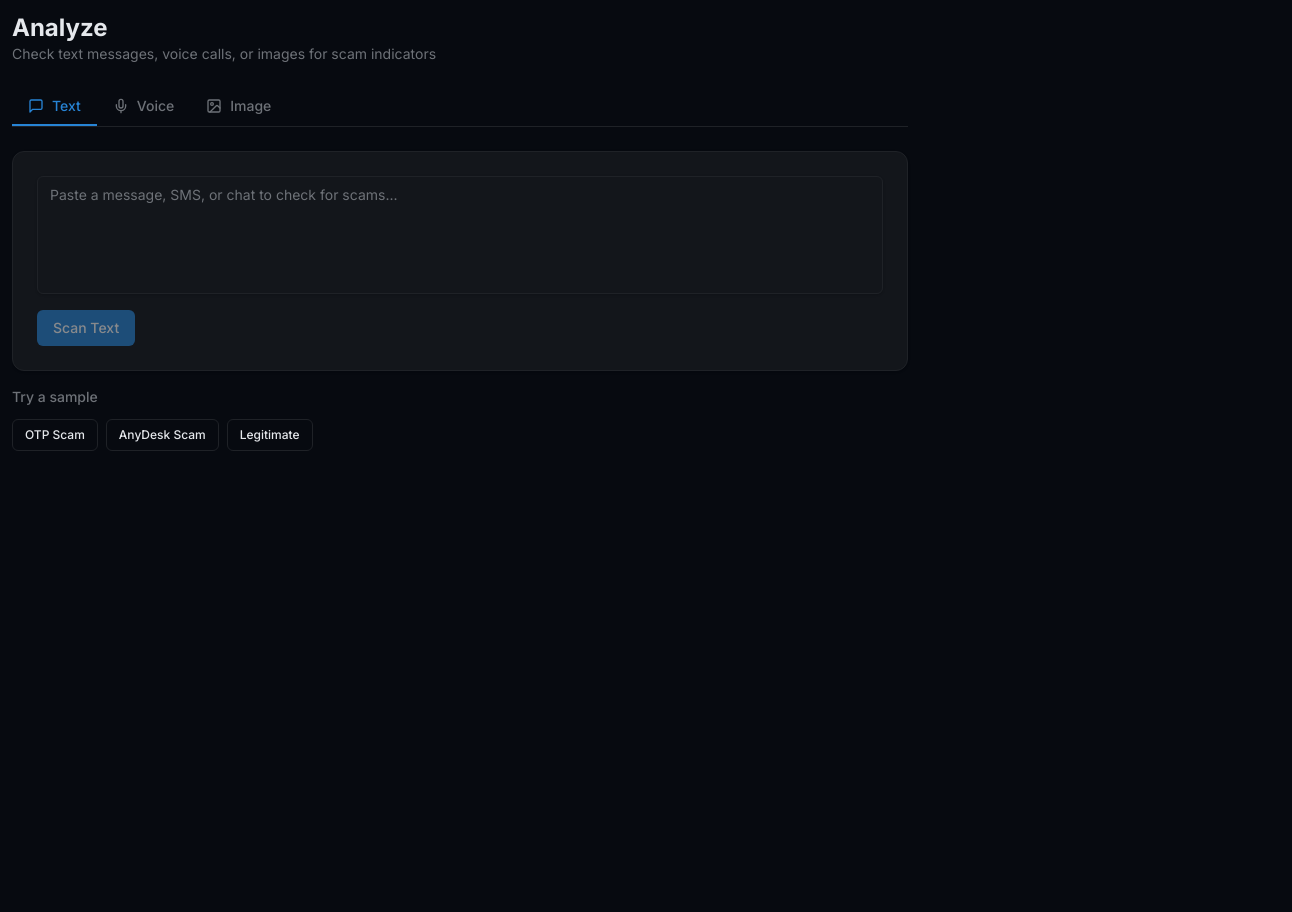
Analyze Page › shows verdict card on successful scan
Type "Call 1234567890" into the text box with placeholder "Paste a message, SMS, or chat to check for scams..." at {"x": 460, "y": 235}, box [37,176,883,294]
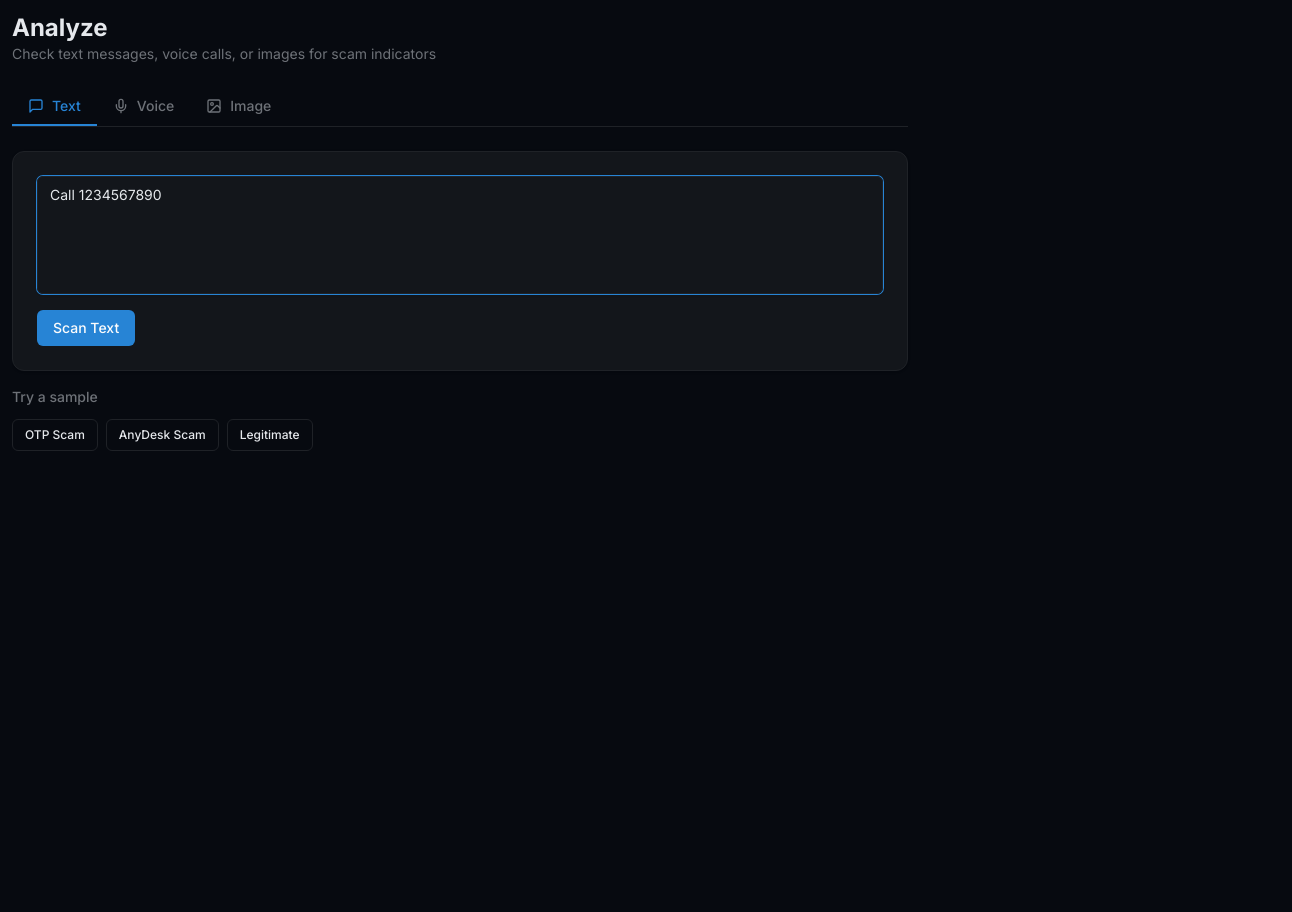
Click the button "Scan Text" at {"x": 86, "y": 328}, box [37,310,135,346]
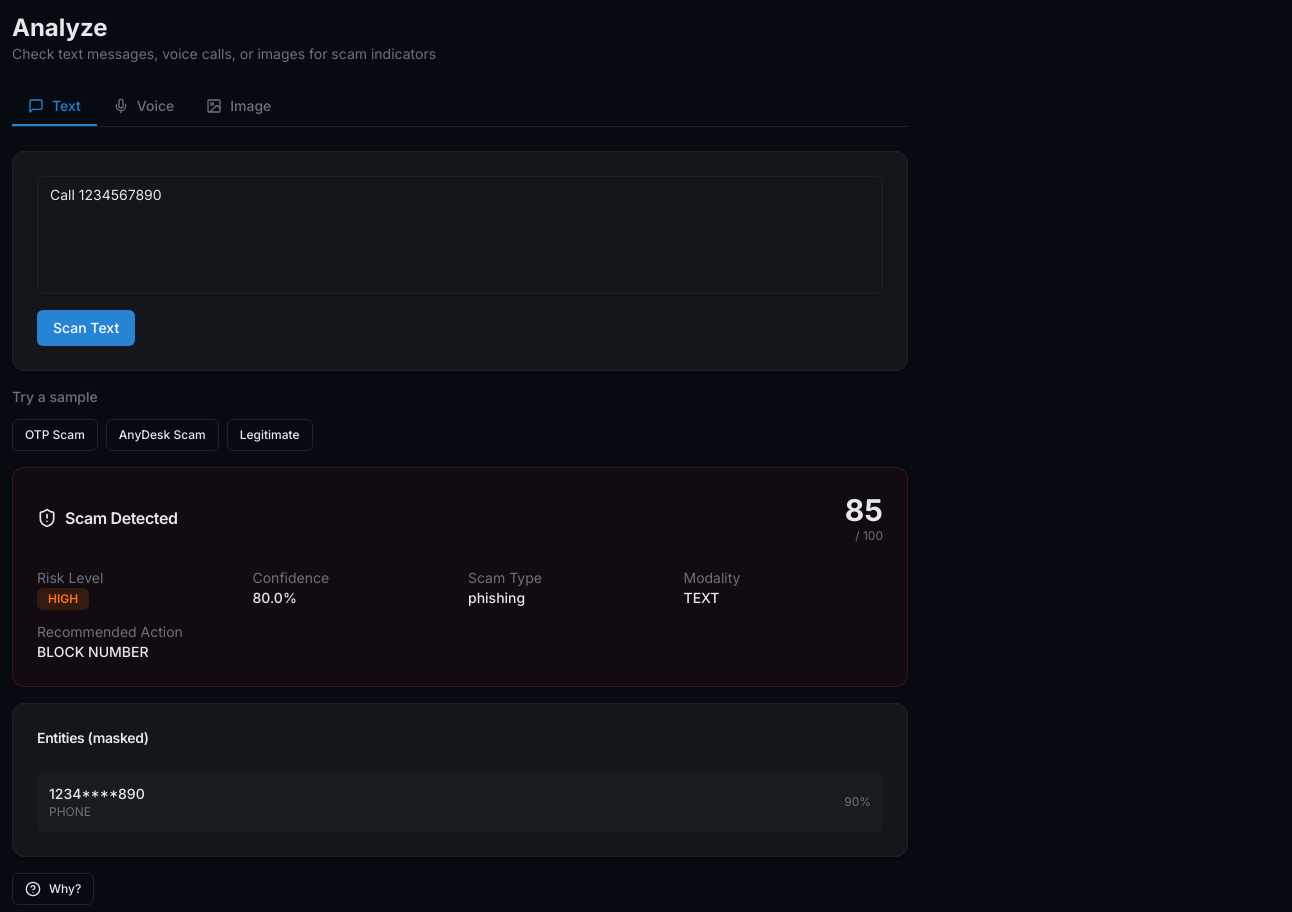
Result: the text "Scam Detected" is shown at [37,508,178,528]
Result: the text "85" is shown at [845,492,883,528]
